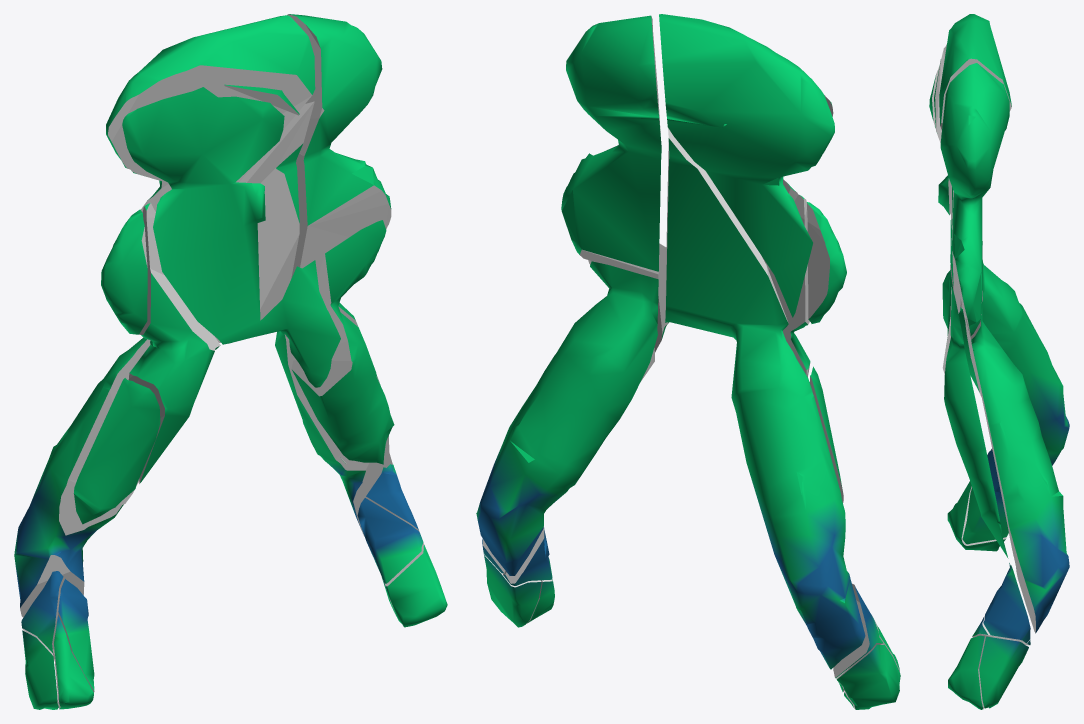
Rendered from Robots and Humanoids.glb.
The picture shows the model from 3 angles, left to right: view 1: azimuth 30°, elevation 25°; view 2: azimuth 150°, elevation 25°; view 3: azimuth 270°, elevation 25°; orthographic projection. The views are drawn at different scales.
Parts seen in each view (by area): view 1: Root.005, Root.012, Root.007, Root.002, Root.015, Root.010, Root.001, Root.011, Root.018, Root.008, Root.003, Root.014 (+5 smaller); view 2: Root.012, Root.002, Root.018, Root.007, Root.011, Root, Root.013, Root.010, Root.008, Root.009, Root.005, Root.001; view 3: Root.018, Root.007, Root.012, Root.015, Root.002, Root.013, Root.019, Root.003, Root.005, Root.014, Root.004, Root.010 (+1 smaller).
Boxes of the visible parts, x1=… form: Root.005: x1=122, y1=87, x2=340, y2=387; Root.012: x1=14, y1=101, x2=314, y2=617; Root.007: x1=287, y1=14, x2=391, y2=278; Root.002: x1=106, y1=15, x2=315, y2=212; Root.015: x1=291, y1=220, x2=394, y2=464; Root.010: x1=128, y1=203, x2=220, y2=483; Root.001: x1=73, y1=378, x2=160, y2=524; Root.011: x1=101, y1=209, x2=147, y2=334; Root.018: x1=275, y1=302, x2=392, y2=536; Root.008: x1=357, y1=498, x2=423, y2=583; Root.003: x1=382, y1=542, x2=447, y2=627; Root.014: x1=54, y1=579, x2=94, y2=691; Root.012: x1=665, y1=128, x2=865, y2=669; Root.002: x1=659, y1=14, x2=834, y2=317; Root.018: x1=476, y1=261, x2=658, y2=575; Root.007: x1=561, y1=15, x2=661, y2=278; Root.011: x1=807, y1=202, x2=846, y2=323; Root: x1=836, y1=644, x2=900, y2=709; Root.013: x1=483, y1=552, x2=541, y2=627; Root.010: x1=770, y1=194, x2=810, y2=376; Root.008: x1=503, y1=526, x2=552, y2=585; Root.009: x1=833, y1=583, x2=883, y2=678; Root.005: x1=654, y1=95, x2=833, y2=352; Root.001: x1=809, y1=366, x2=843, y2=502; Root.018: x1=965, y1=296, x2=1069, y2=633; Root.007: x1=940, y1=63, x2=1009, y2=335; Root.012: x1=940, y1=133, x2=1069, y2=465; Root.015: x1=944, y1=287, x2=1008, y2=558; Root.002: x1=939, y1=14, x2=1011, y2=129; Root.013: x1=979, y1=636, x2=1028, y2=708; Root.019: x1=983, y1=563, x2=1030, y2=643; Root.003: x1=948, y1=635, x2=985, y2=709; Root.005: x1=929, y1=44, x2=960, y2=374; Root.014: x1=962, y1=450, x2=1008, y2=544; Root.004: x1=947, y1=481, x2=1007, y2=551; Root.010: x1=942, y1=265, x2=979, y2=392.
Bounding box in the file's own units: 1.94 × 2.92 × 0.63.
